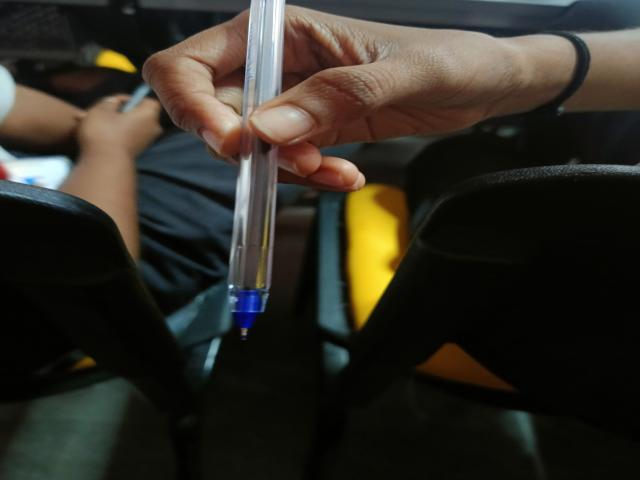PEN: (203, 3, 298, 339)
